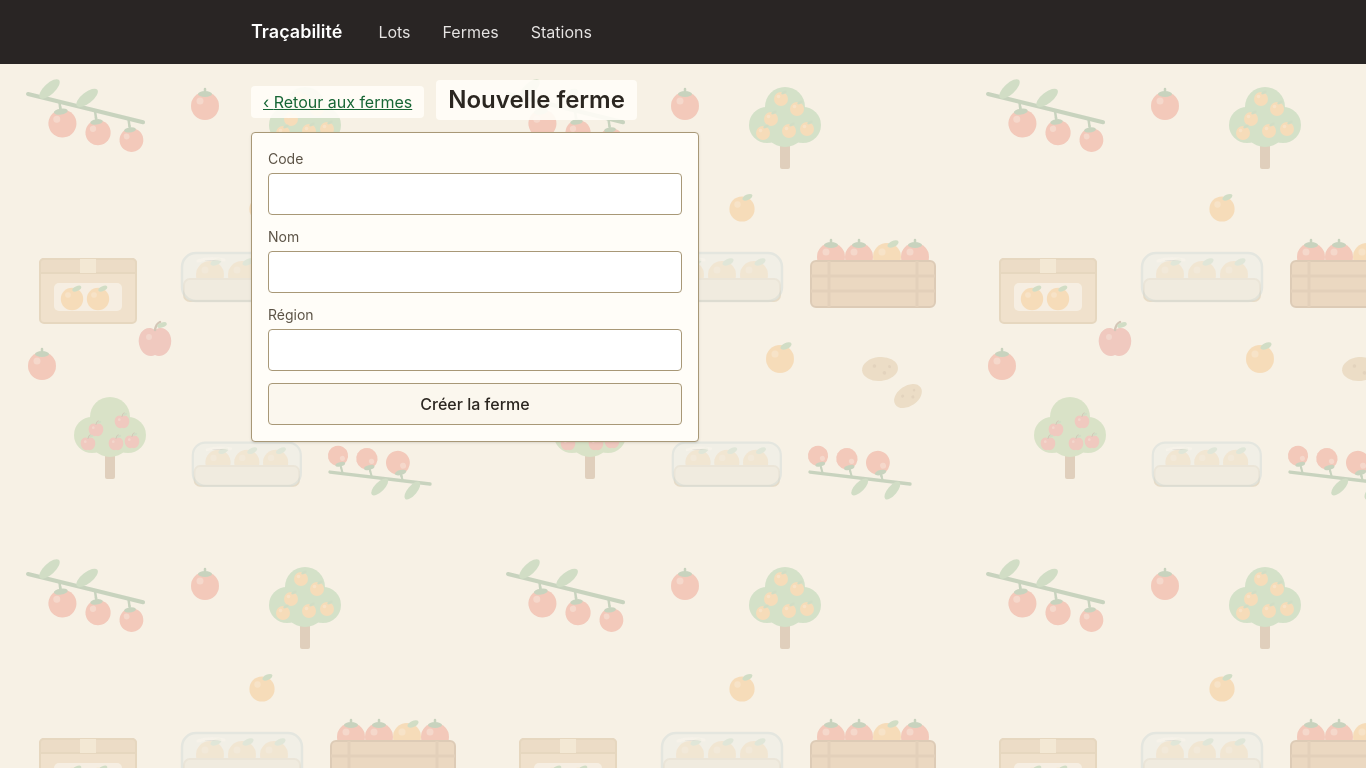
Test case: NewFarmPage › shows the messages of an error of shape under the right fields
Type "ZT-FARM" into the field labelled "Code".
click(475, 194); type("ZT-FARM")  # box [268,173,682,215]
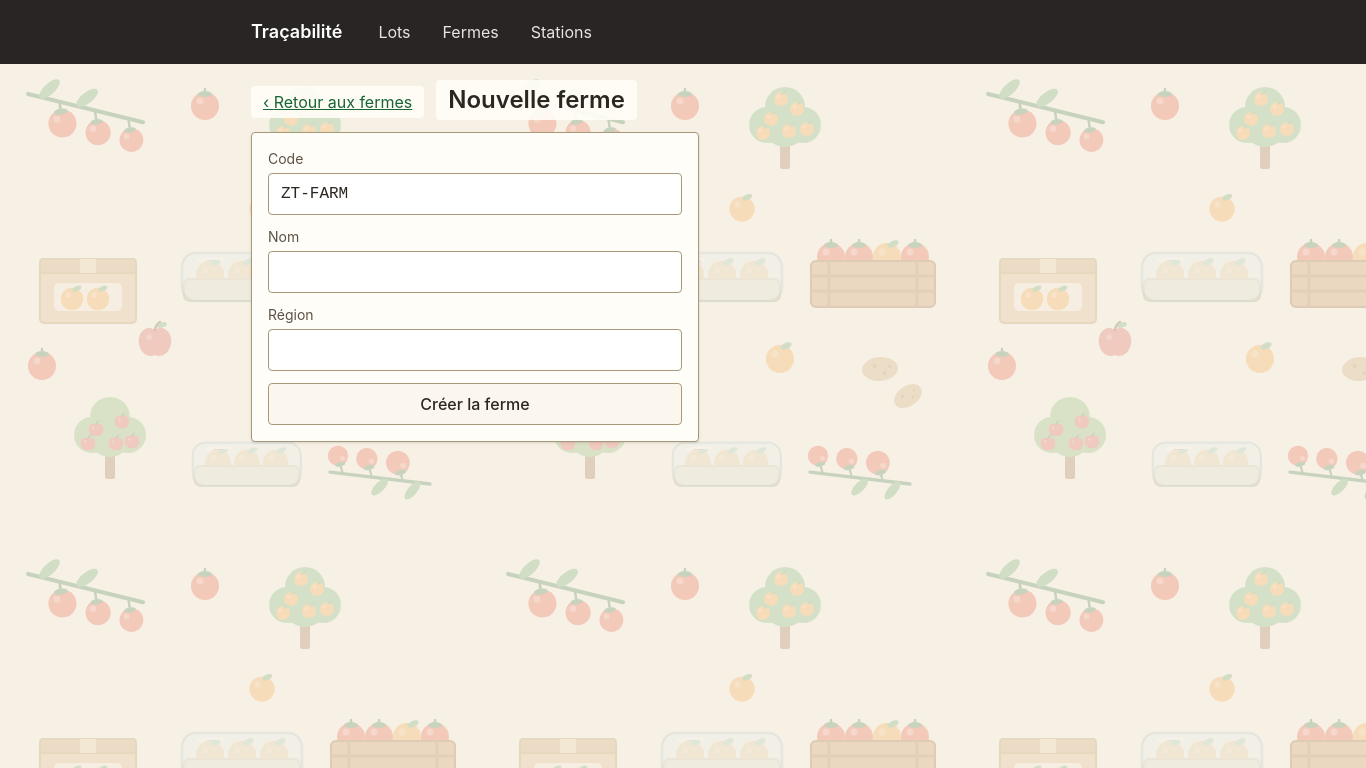
Type "Test farm" into the field labelled "Nom".
click(475, 272); type("Test farm")  # box [268,251,682,293]
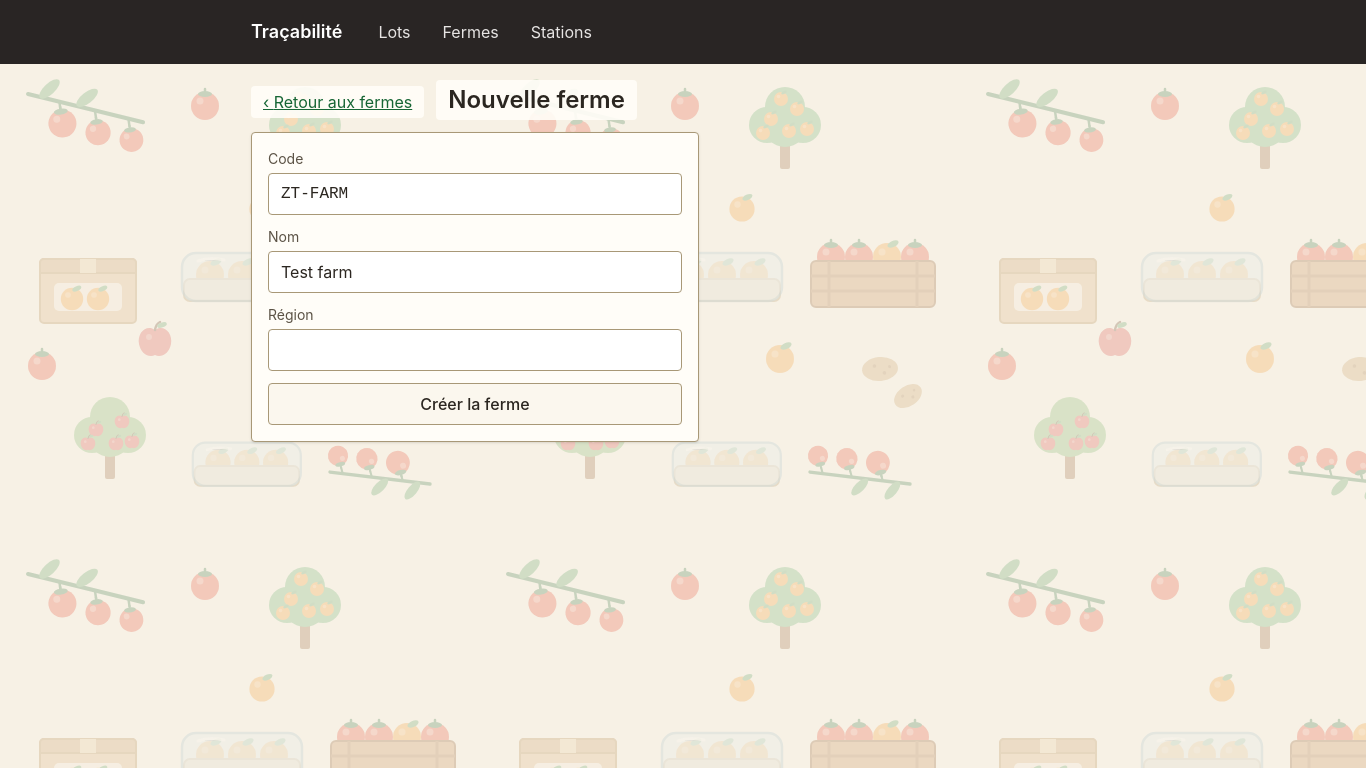
Type "Region A" into the field labelled "Région".
click(475, 350); type("Region A")  # box [268,329,682,371]
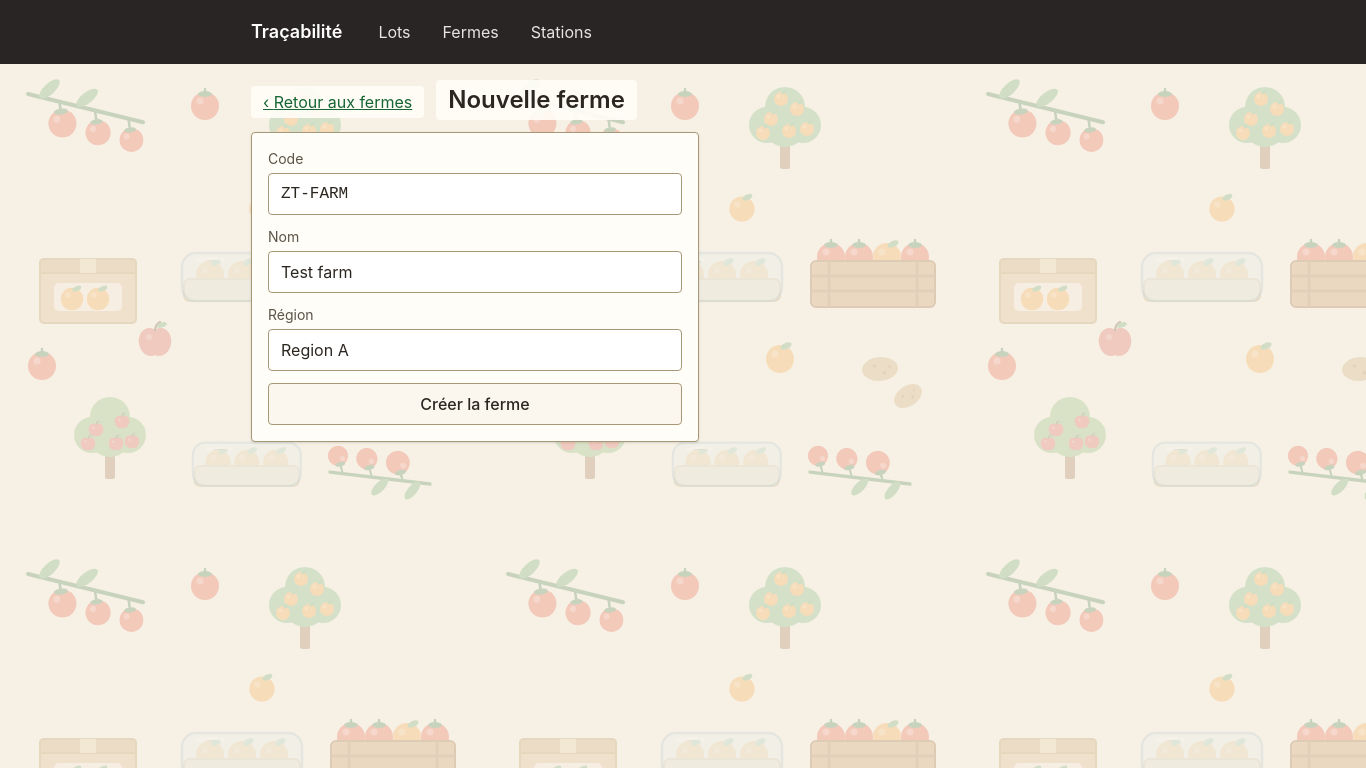
Click the button "Créer la ferme".
click(475, 404)  # box [268,383,682,425]
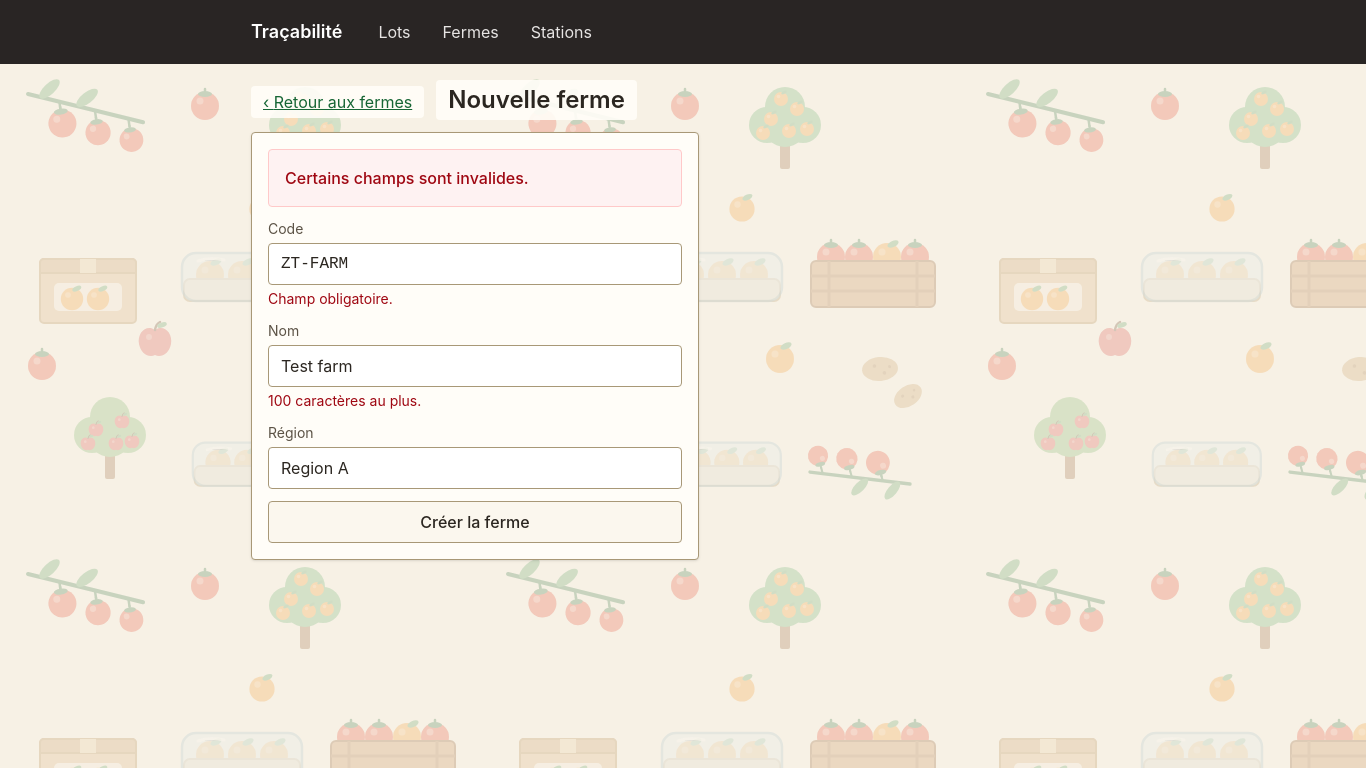
Now the message reads "Certains champs sont invalides.", box [285,168,529,188]
Now the element labelled "Code" shows "Champ obligatoire.", box [268,290,393,307]
Now the element labelled "Nom" shows "100 caractères au plus.", box [268,392,421,409]
